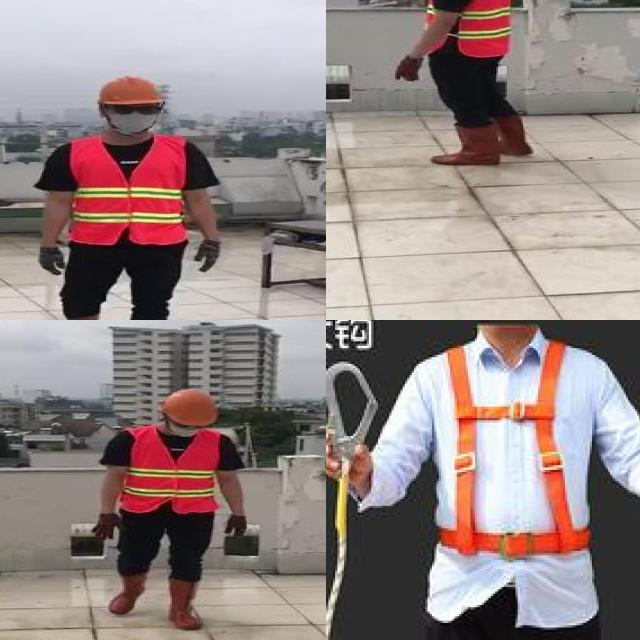Harness: (434, 337, 592, 560)
boots: (434, 124, 502, 164), (167, 577, 209, 630), (106, 571, 147, 616), (498, 114, 534, 160)
face_mask: (106, 104, 163, 134), (162, 416, 210, 440)
glasses: (105, 100, 164, 118)
hand_glove: (35, 247, 69, 276), (92, 514, 128, 540), (393, 54, 425, 83), (193, 240, 220, 274), (224, 514, 248, 540)
head_helmet: (94, 74, 162, 105), (163, 388, 217, 427)
person: (26, 77, 229, 320), (84, 386, 251, 636), (371, 0, 544, 167)
vest: (65, 135, 188, 246), (122, 429, 216, 514), (452, 0, 509, 55), (420, 0, 452, 55)
